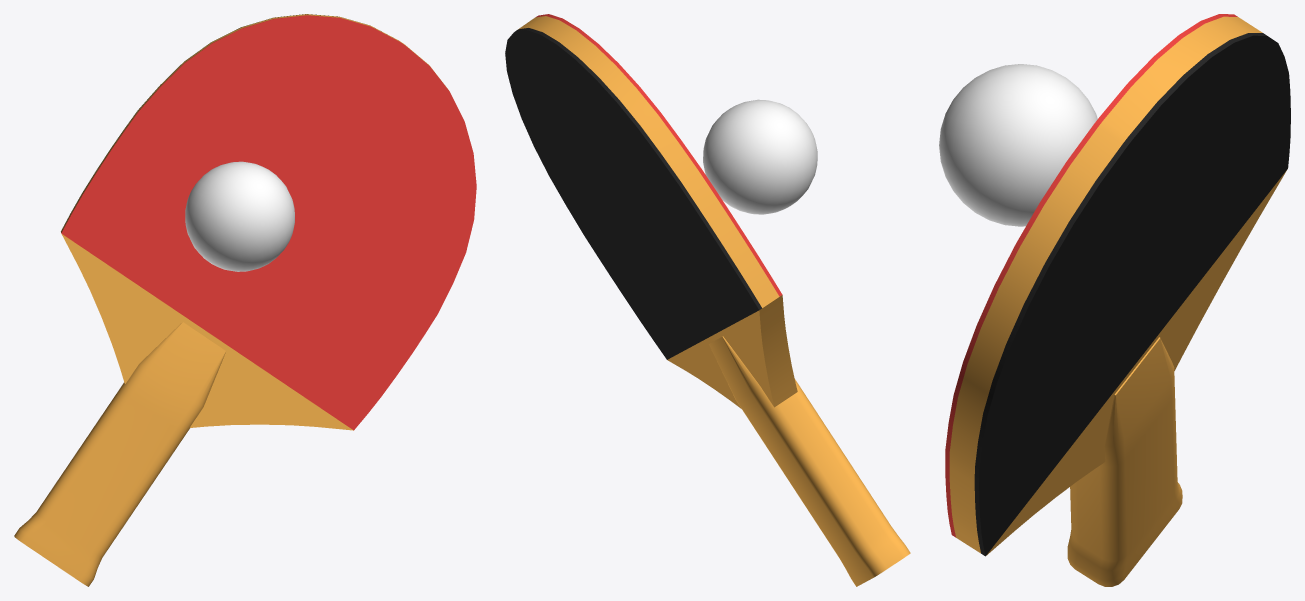
Rendered from ping_pong.glb.
The picture shows the model from 3 angles, left to right: view 1: azimuth 30°, elevation 25°; view 2: azimuth 150°, elevation 25°; view 3: azimuth 270°, elevation 25°; orthographic projection. The views are drawn at different scales.
Parts seen in each view (by area): view 1: Cube.822; view 2: Cube.822; view 3: Cube.822.
Part boxes in pixels (<box>): Cube.822: <box>14,14,476,586</box>; Cube.822: <box>505,14,910,586</box>; Cube.822: <box>939,14,1290,586</box>.
Bounding box in the file's own units: 2.07 × 2.33 × 1.02.
Materials: 1 (1 with a texture image).
